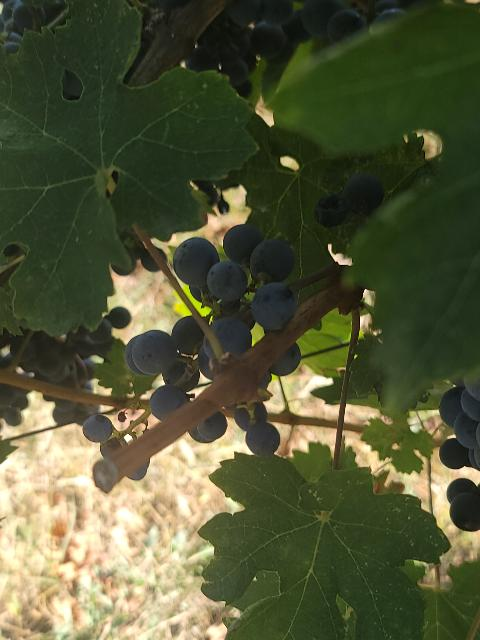grapes: (172, 224, 298, 355), (125, 316, 215, 419)
